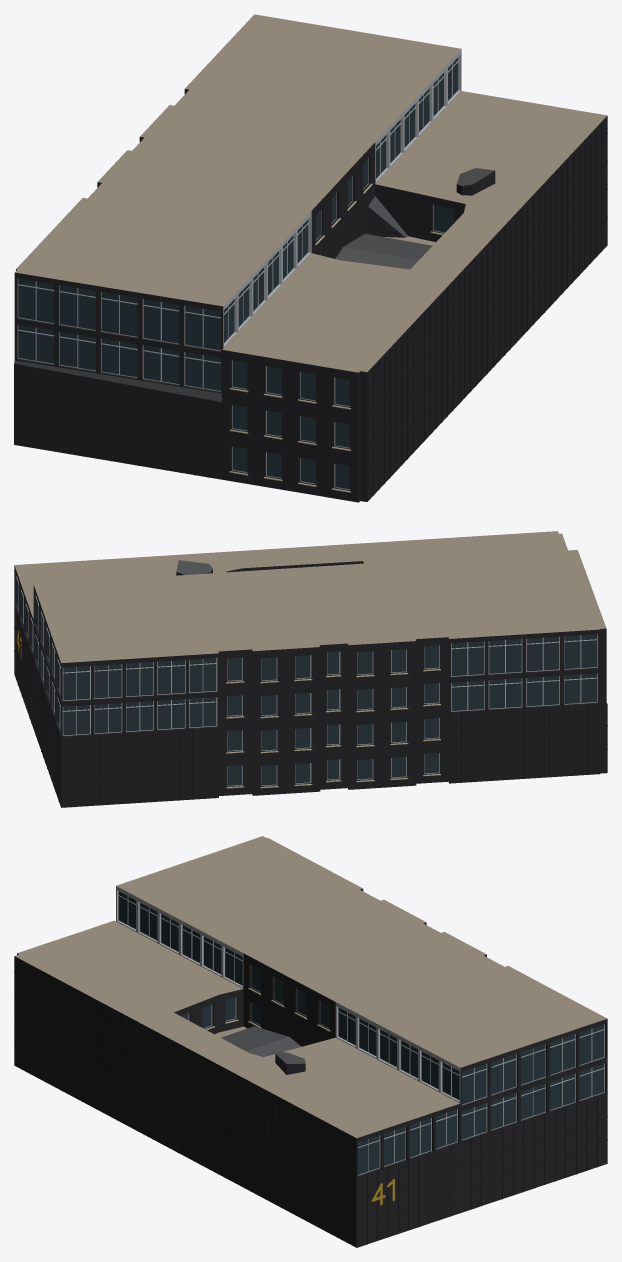
Rendered from recipe-large-houthavens-249736.glb.
3 views of the same model, one above another, from view 1: azimuth 30°, elevation 25°; view 2: azimuth 150°, elevation 25°; view 3: azimuth 270°, elevation 25° (orthographic). The views are drawn at different scales.
Visible parts, largest first — view 1: houthavens-249736; view 2: houthavens-249736; view 3: houthavens-249736.
Boxes of the visible parts, x1=… form: houthavens-249736: x1=14, y1=14, x2=607, y2=502; houthavens-249736: x1=14, y1=531, x2=607, y2=807; houthavens-249736: x1=14, y1=836, x2=607, y2=1247.
Bounding box in the file's own units: 58.39 × 14.78 × 54.79.
